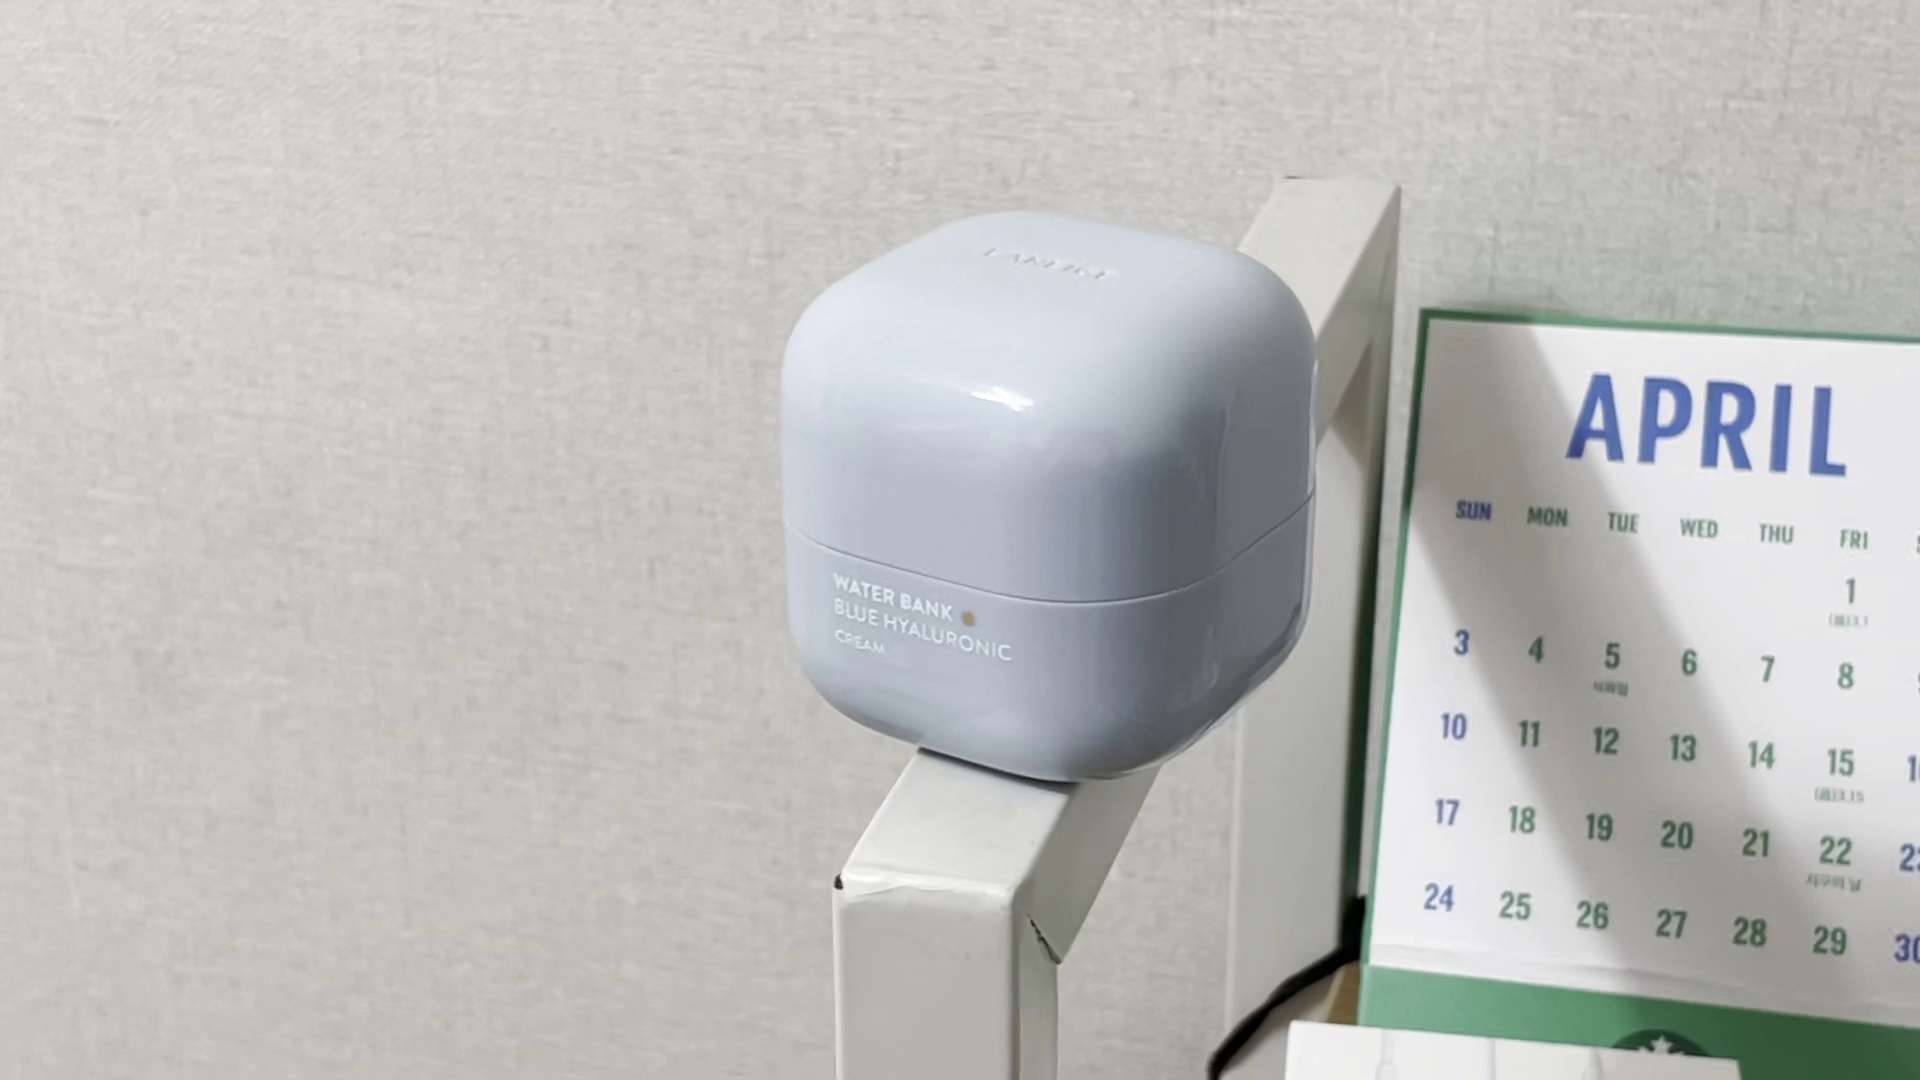cream: (777, 203, 1313, 782)
